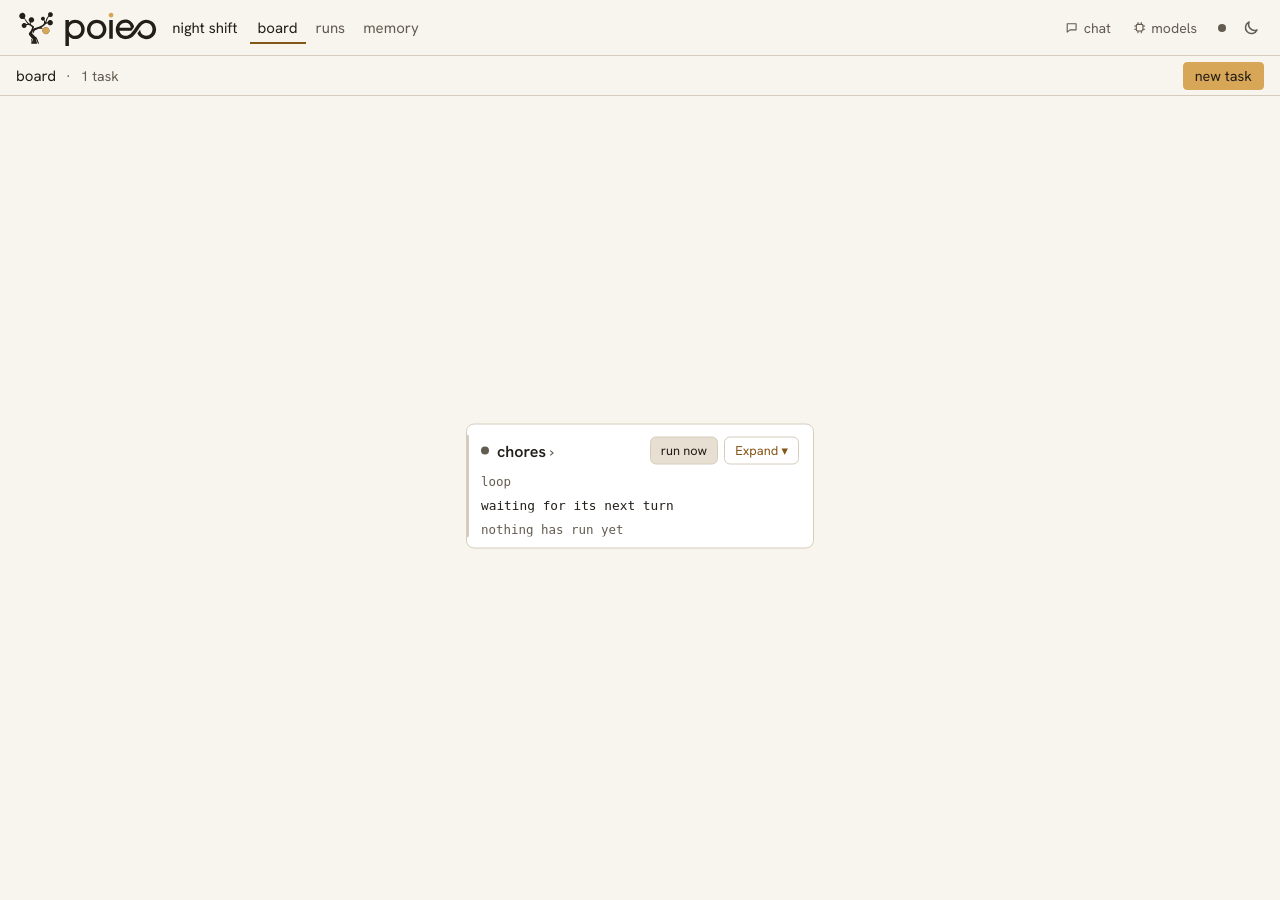
it: picking a task on the board takes the margin back
Click the button "new task" at (1223, 76), box [1183,62,1264,90]
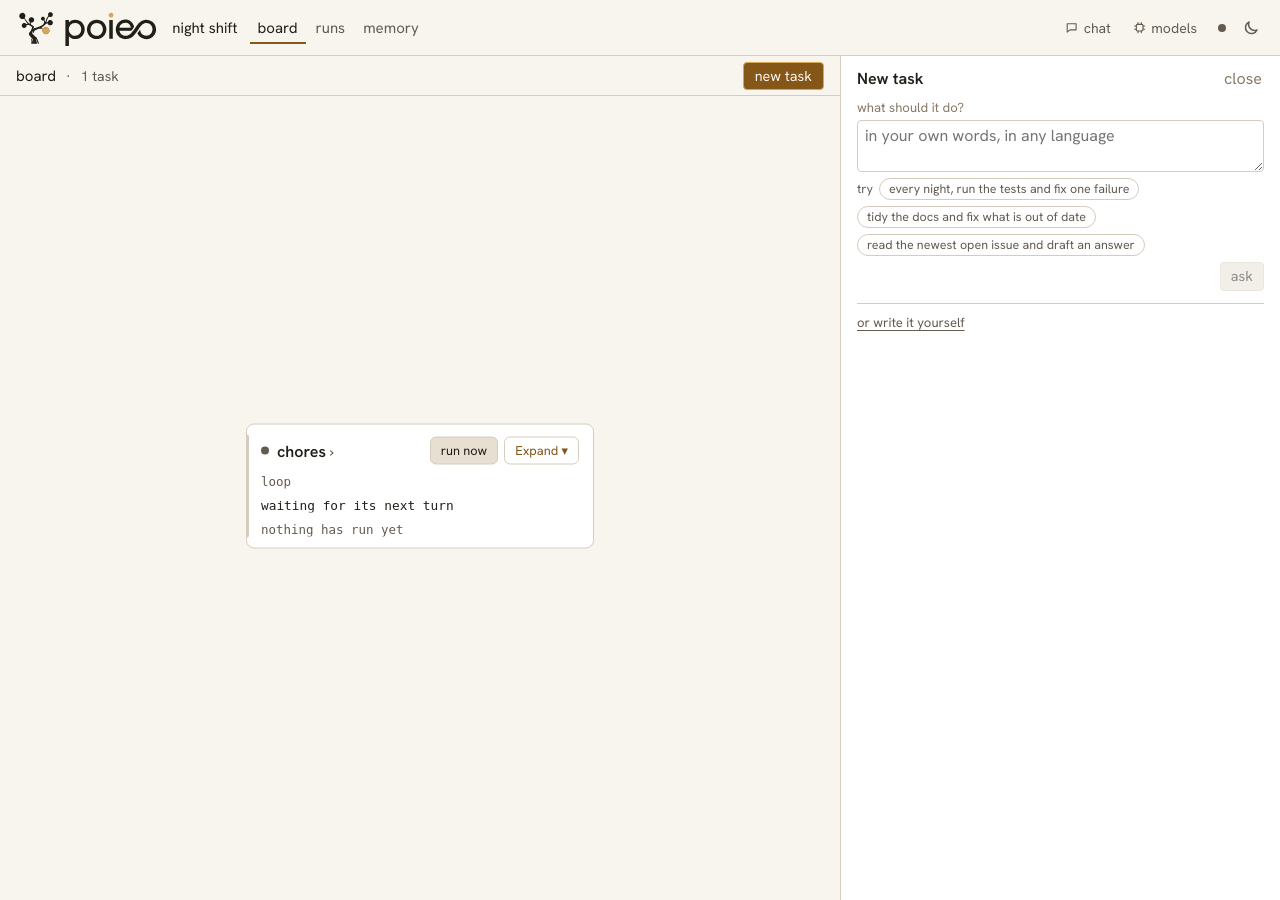
Click the button with class "basic-pick" at (342, 450), box [261,440,424,461]
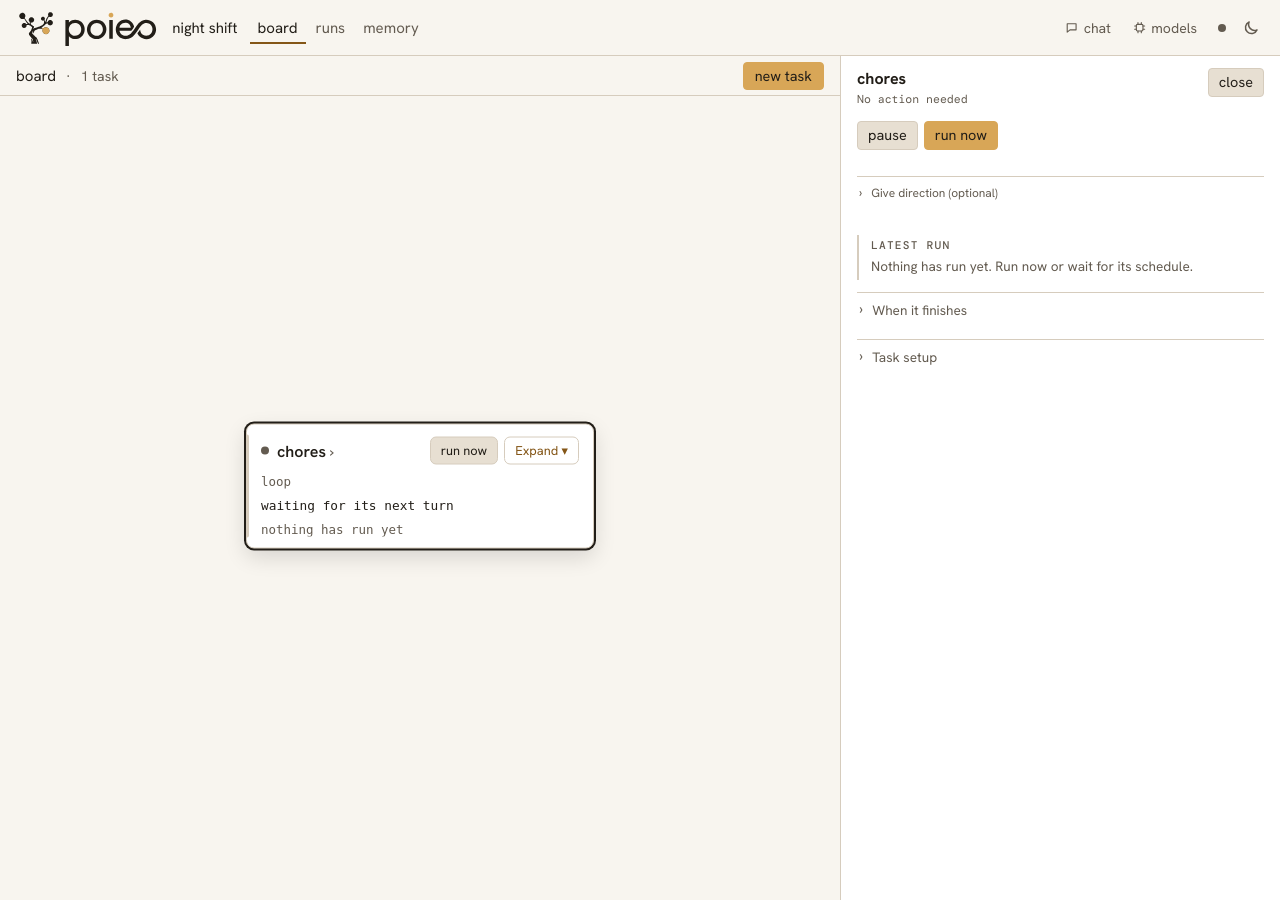
Expected: the element with class "drawer" is shown, [840,56,1279,899]
